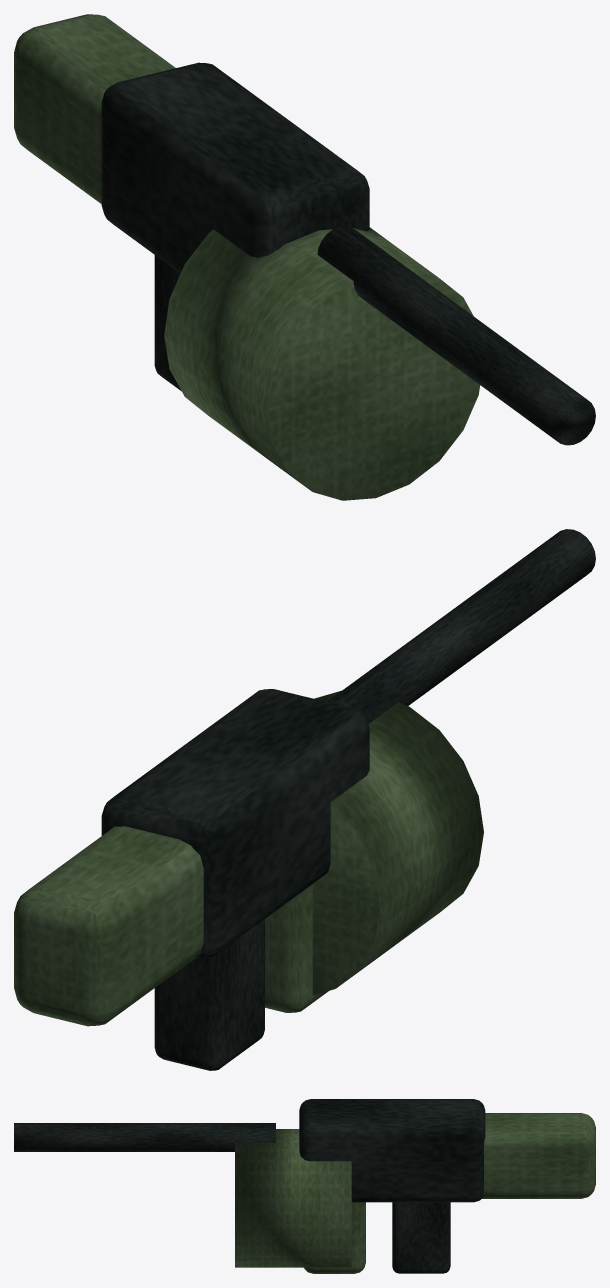
The model's file is weapon_launcher.glb.
The picture shows the model from 3 angles, top to bottom: view 1: azimuth 30°, elevation 25°; view 2: azimuth 150°, elevation 25°; view 3: azimuth 270°, elevation 25°; orthographic projection. The views are drawn at different scales.
Parts seen in each view (by area): view 1: Grenade cylinder, Receiver.007, Barrel.007, Stock.005, Grip.005; view 2: Receiver.007, Grenade cylinder, Stock.005, Barrel.007, Grip.005, Magazine.007; view 3: Receiver.007, Grenade cylinder, Stock.005, Barrel.007, Grip.005, Magazine.007.
Part boxes in pixels (bbox=[...]): Grenade cylinder: bbox=[164, 227, 480, 500]; Receiver.007: bbox=[101, 62, 369, 273]; Barrel.007: bbox=[317, 226, 595, 445]; Stock.005: bbox=[14, 14, 175, 203]; Grip.005: bbox=[154, 255, 181, 391]; Receiver.007: bbox=[101, 689, 369, 958]; Grenade cylinder: bbox=[312, 690, 483, 995]; Stock.005: bbox=[14, 826, 203, 1026]; Barrel.007: bbox=[327, 529, 595, 723]; Grip.005: bbox=[154, 919, 264, 1070]; Magazine.007: bbox=[265, 884, 328, 1012]; Receiver.007: bbox=[299, 1099, 485, 1202]; Grenade cylinder: bbox=[235, 1129, 351, 1267]; Stock.005: bbox=[482, 1113, 595, 1198]; Barrel.007: bbox=[14, 1123, 275, 1151]; Grip.005: bbox=[392, 1202, 450, 1273]; Magazine.007: bbox=[304, 1202, 365, 1273].
Bounding box in the file's own units: 0.24 × 0.295 × 1.
2 materials, 2 textured.
